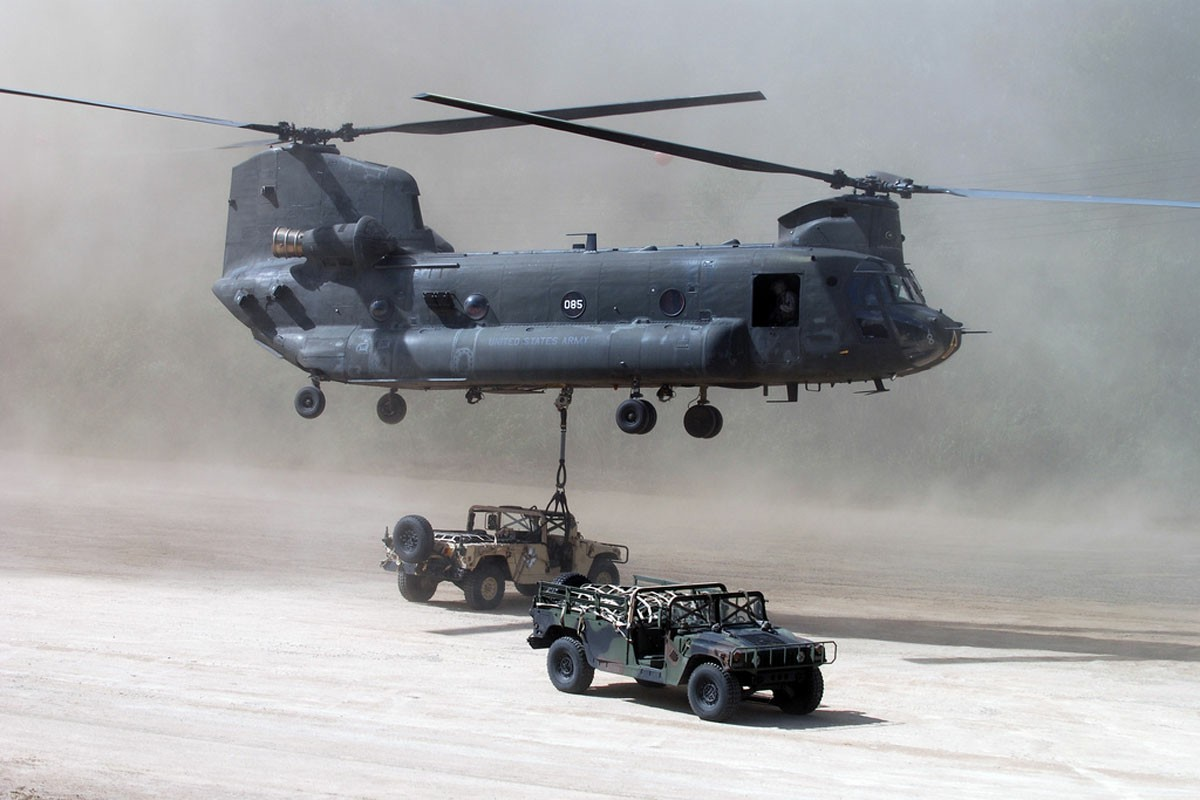HMMWV: (377, 480, 855, 738)
chinook: (158, 75, 1010, 434)
